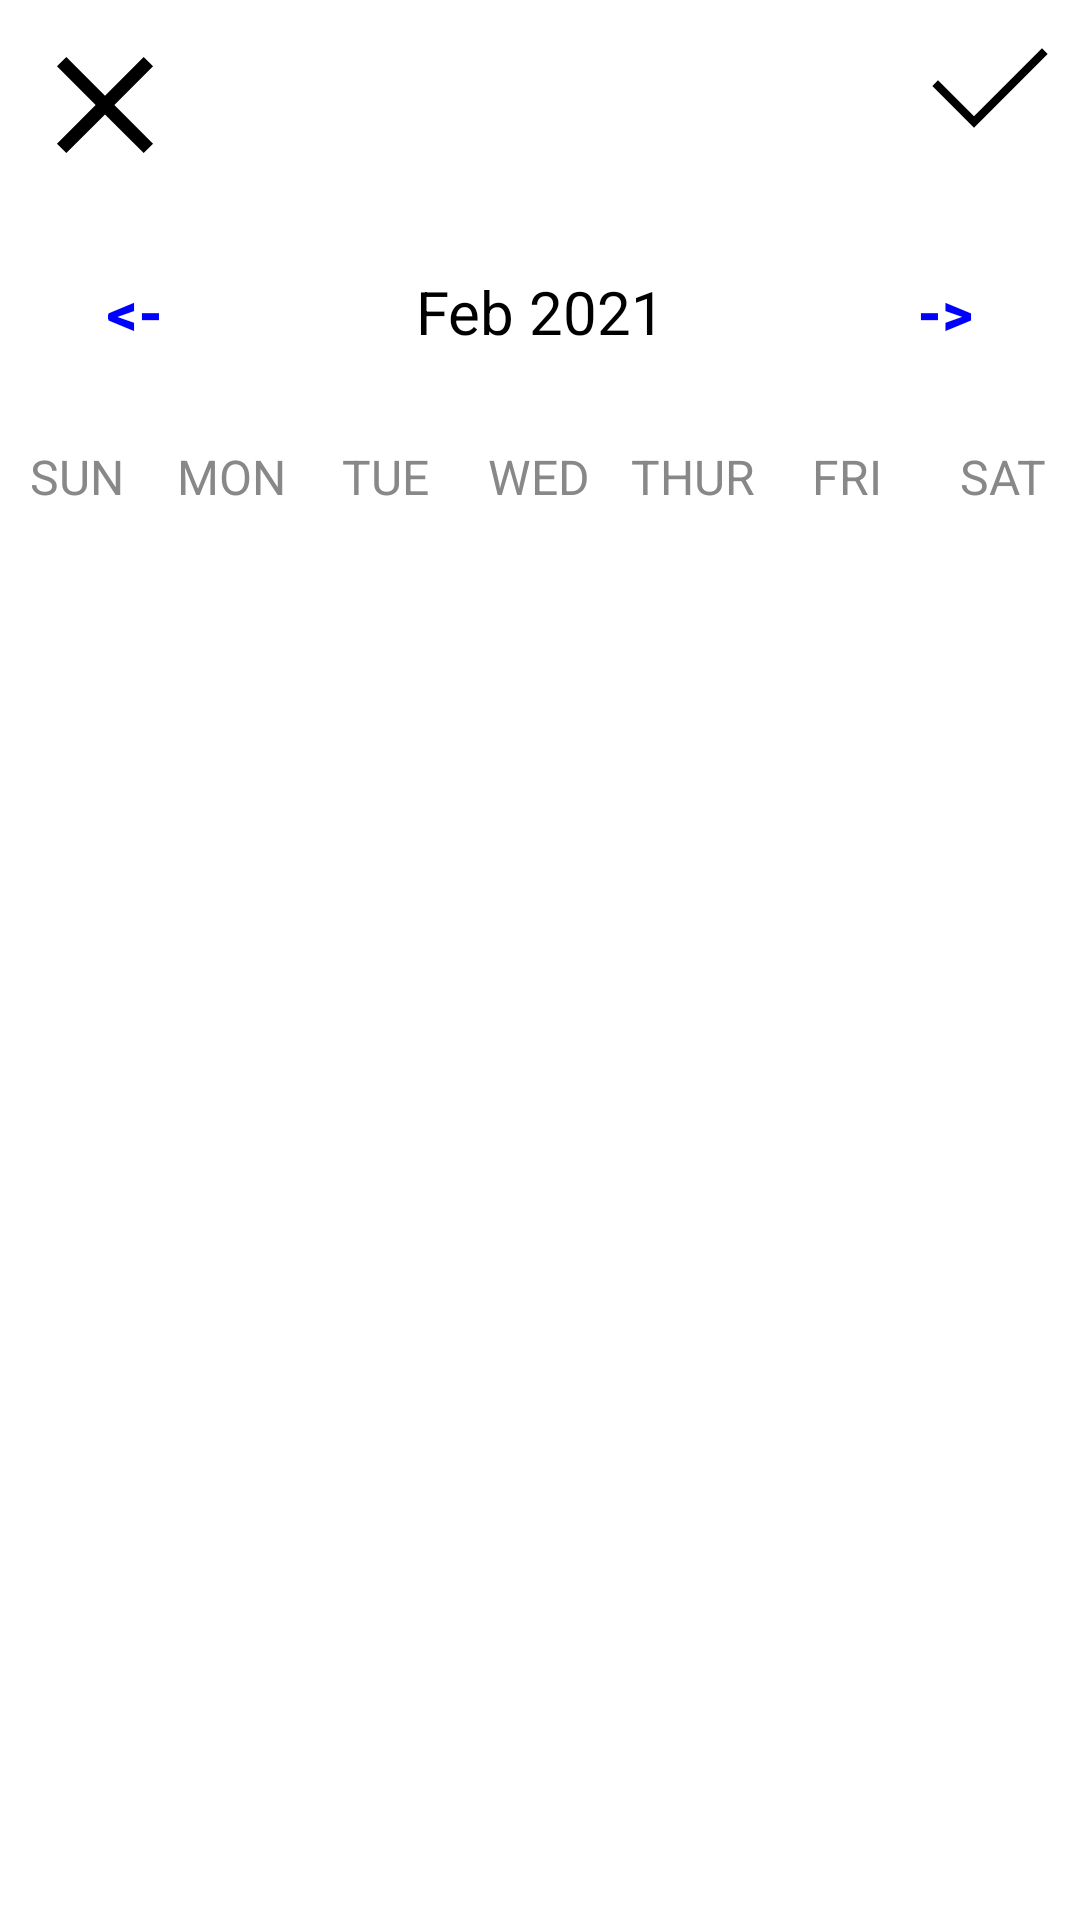

Where to tap for icons on this 1080*1920 app screen, as (x=x, y=y):
cancel: (x=105, y=105)
tick: (x=990, y=88)
